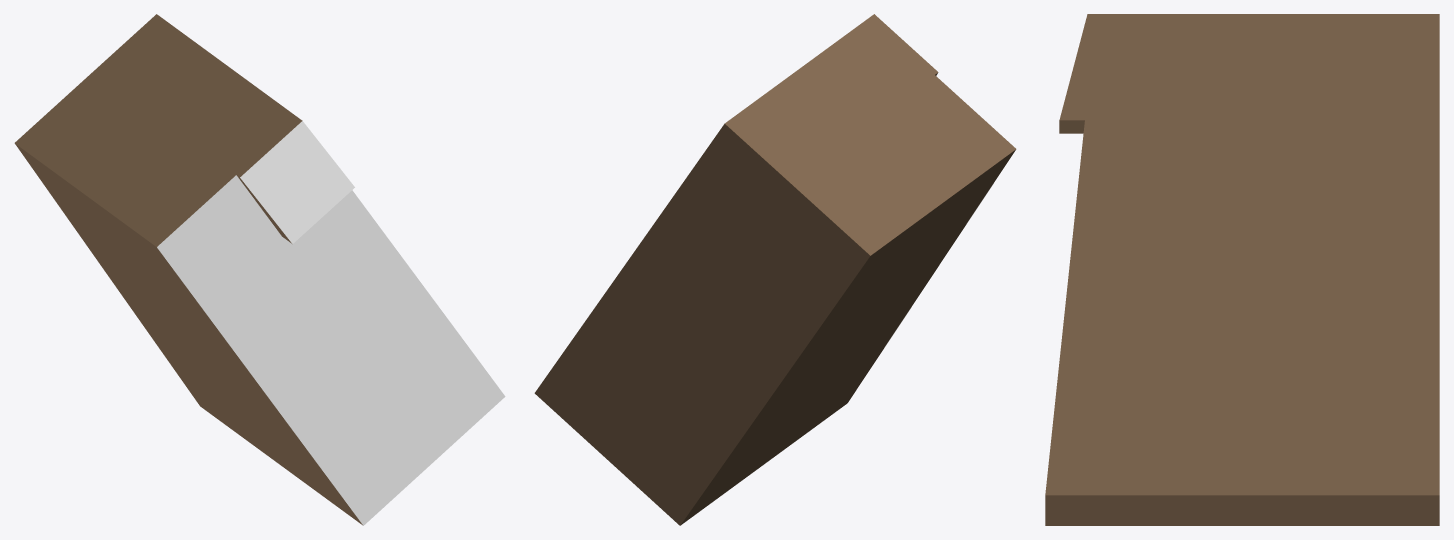
3 renders of one model, left to right at view 1: azimuth 30°, elevation 25°; view 2: azimuth 150°, elevation 25°; view 3: azimuth 270°, elevation 25°, orthographic. The views are drawn at different scales.
Parts seen in each view (by area): view 1: City_1202368; view 2: City_1202368; view 3: City_1202368.
Part boxes in pixels (x1,y1,x2,y2): City_1202368: [14, 14, 505, 525]; City_1202368: [534, 14, 1016, 525]; City_1202368: [1045, 14, 1439, 525].
Bounding box in the file's own units: 1193 × 1402 × 1030.
